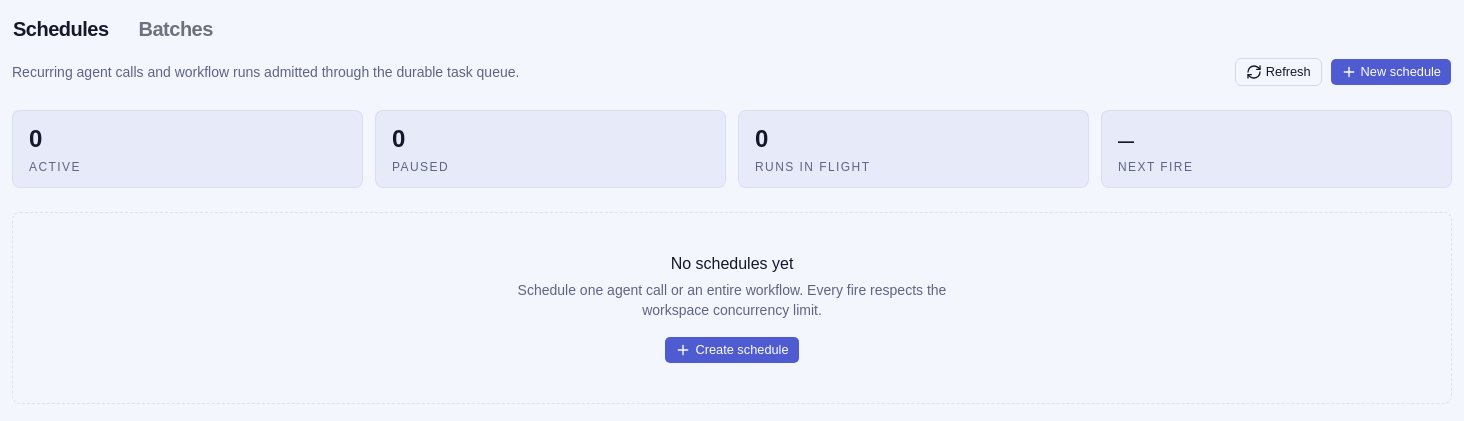
Scenario: SchedulesWorkspace Batch peer › swaps the panel contents when the Batches tab is selected
Click the tab "Batches" at (176, 29), box [138, 12, 214, 46]
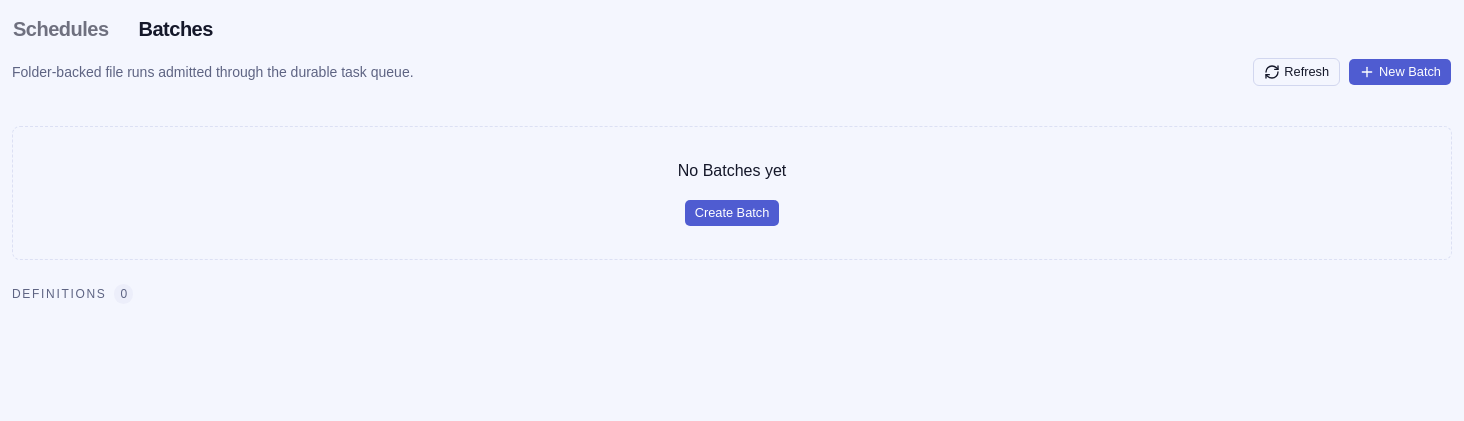
expect the button "New Batch" is shown: met, box [1348, 58, 1452, 86]
expect the button "New schedule" is gone: met
